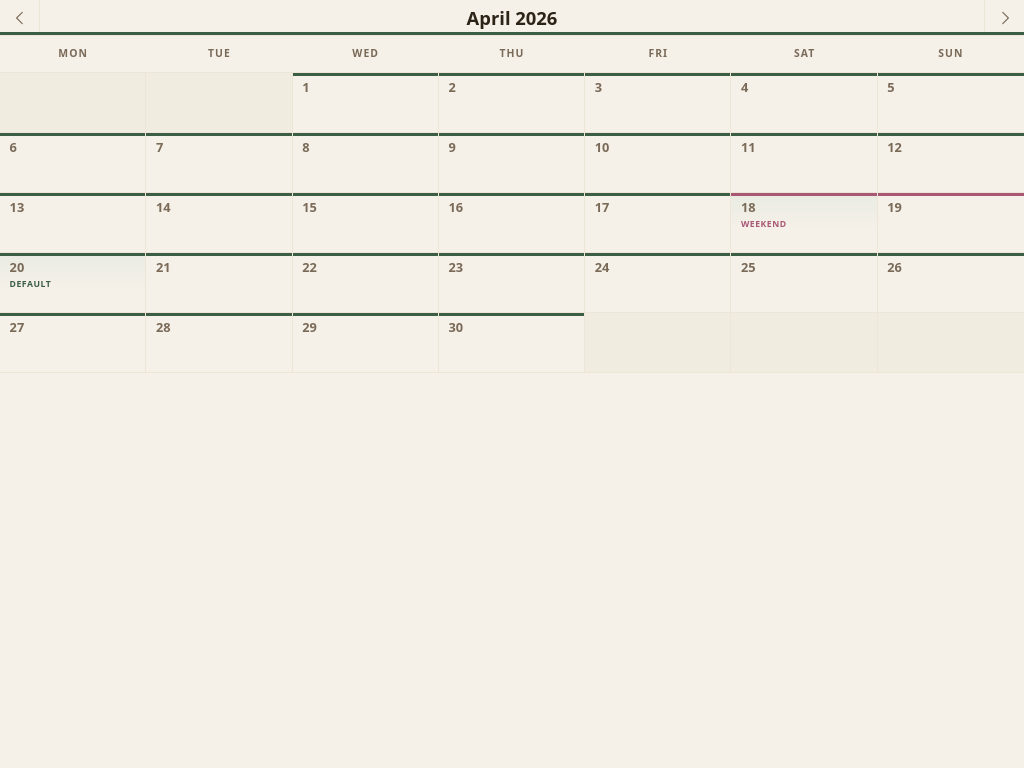
profile-aware meal plan views › shows profile details in the month popover even when no meals are planned
Click the button "18 Weekend" at (805, 223), box [731,193,878,253]
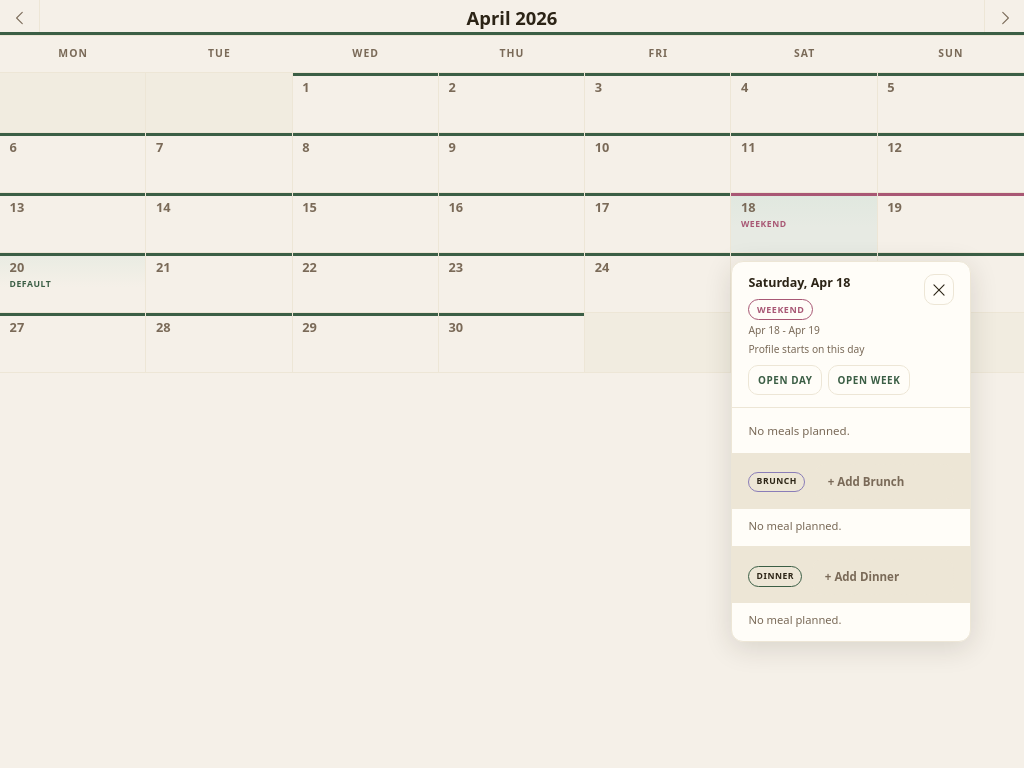
Expected: the text "Profile starts on this day" is shown, [748,342,864,356]
Expected: the text "No meals planned." is shown, [748,423,850,438]
Expected: the text "Brunch" is shown, [748,472,805,492]
